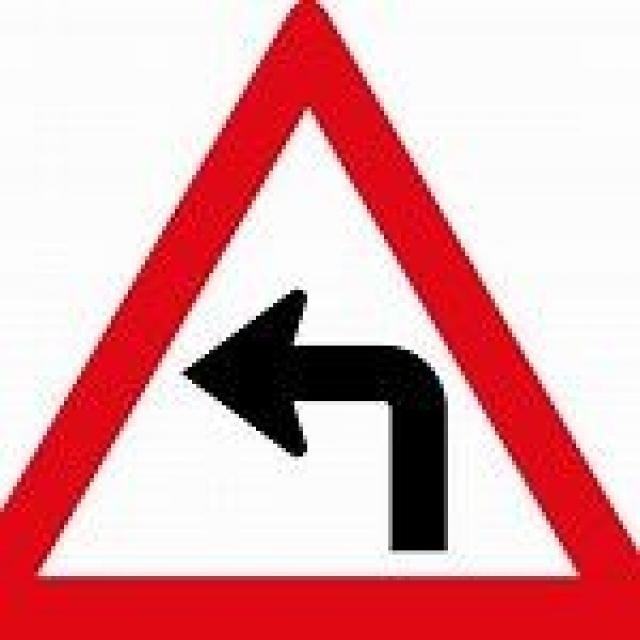LEFT_HAND_CURVE: (0, 0, 636, 636)
